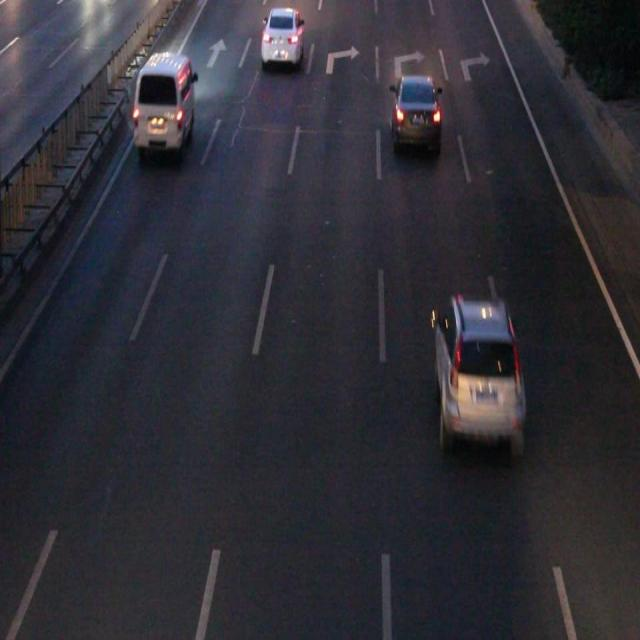car: (433, 298, 522, 444), (390, 78, 439, 146), (261, 8, 302, 64)
truck: (136, 53, 193, 151)
